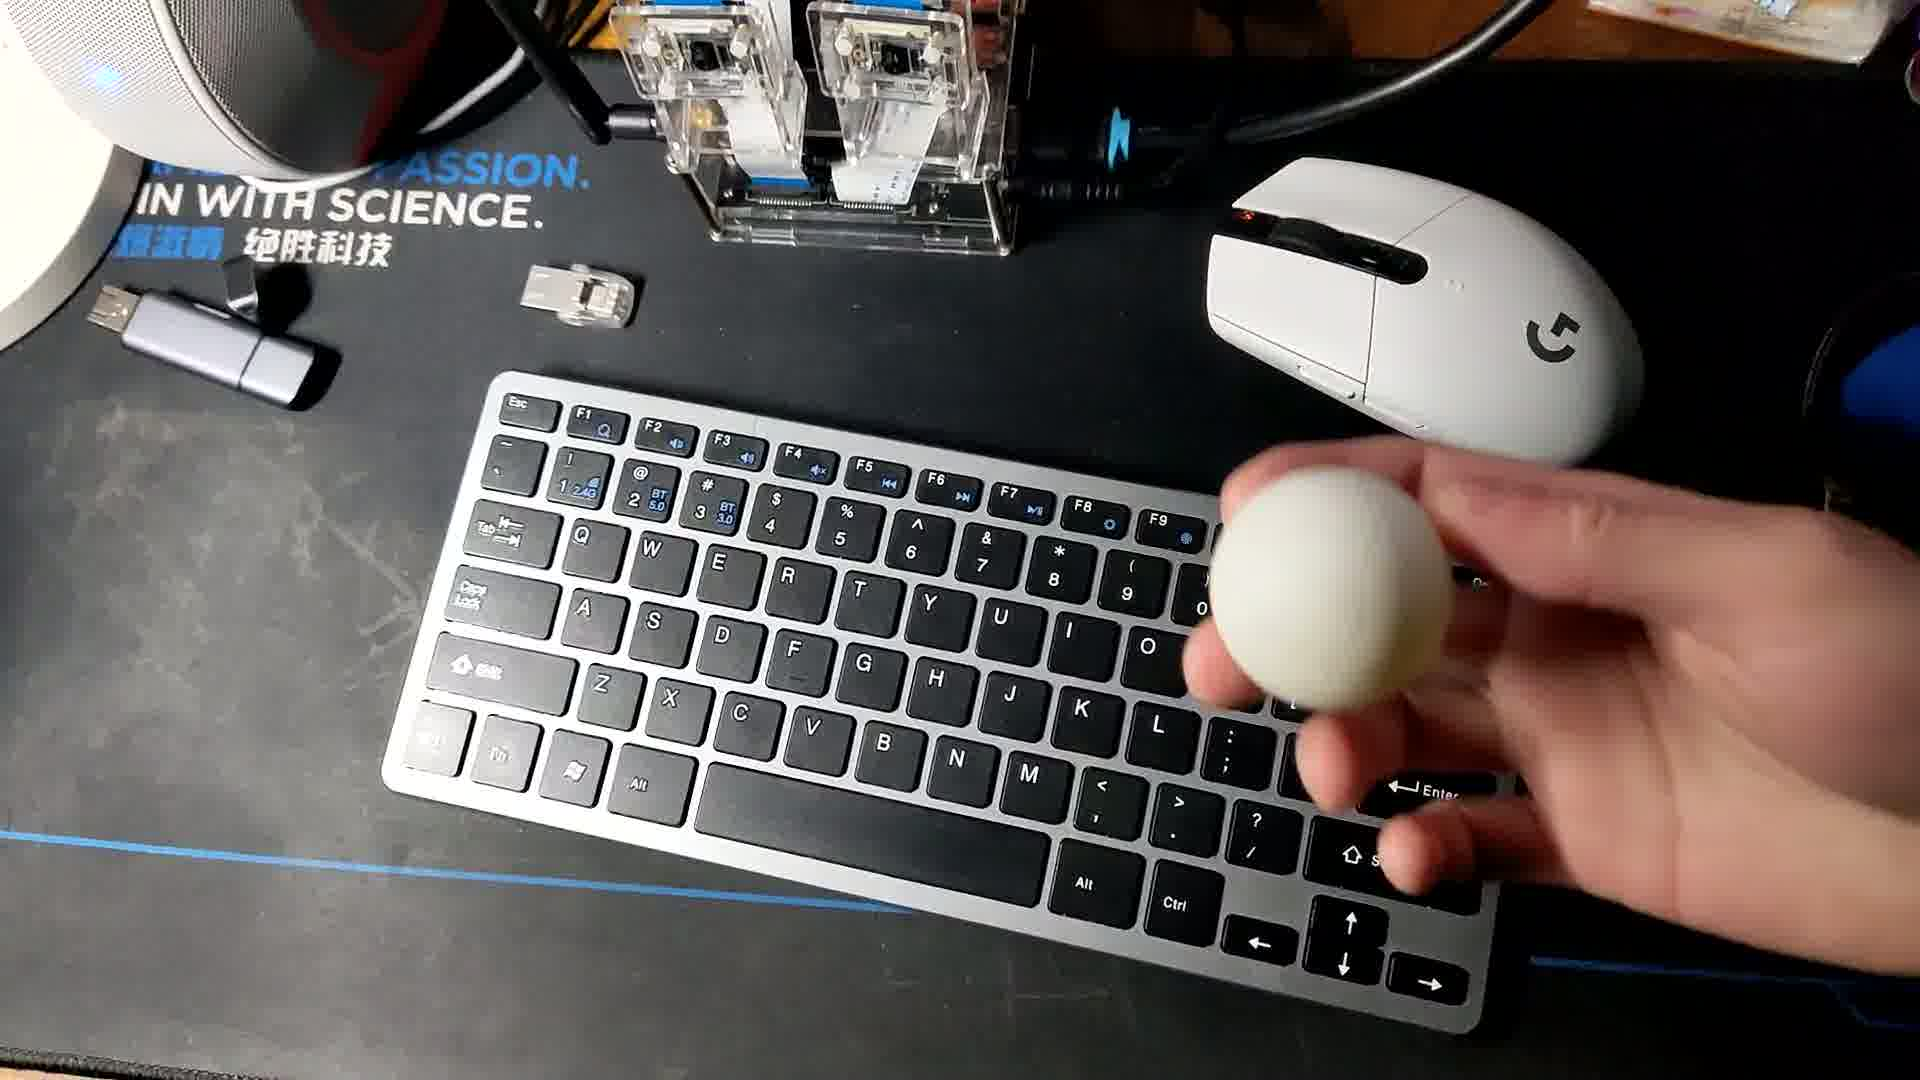Ball: (1212, 459, 1455, 705)
